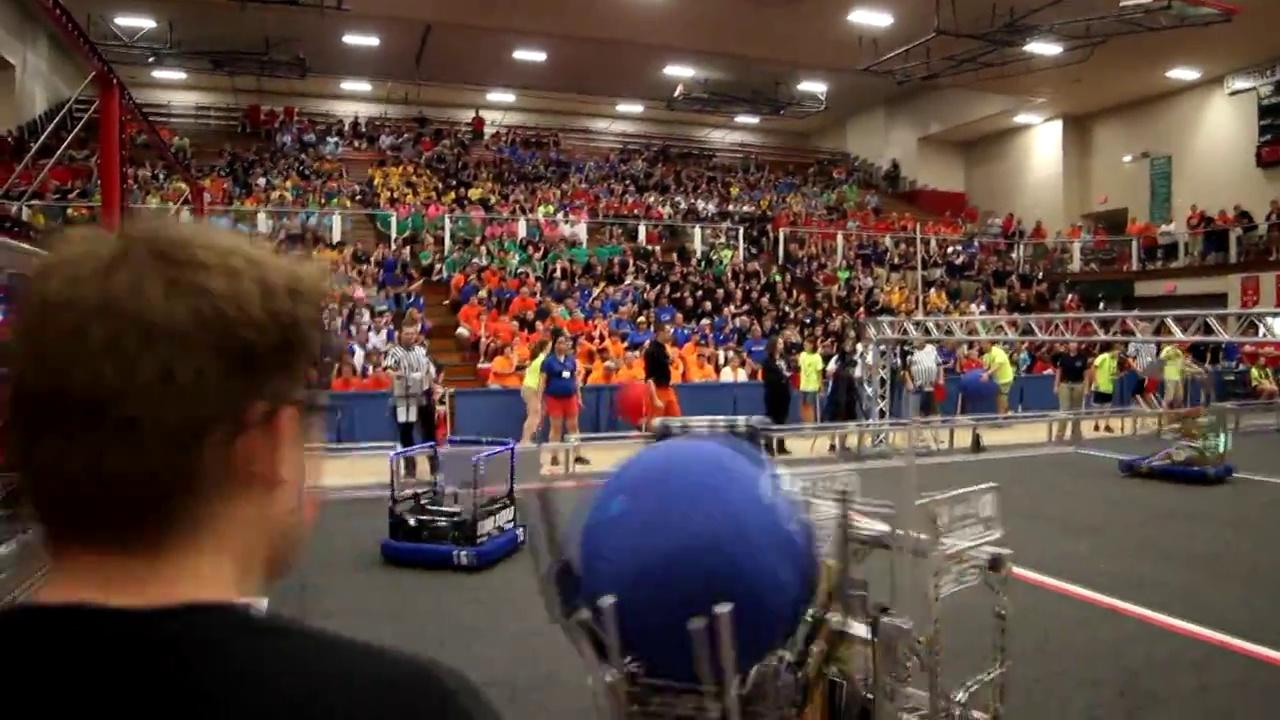robot: (380, 429, 529, 576), (1112, 413, 1243, 487)
